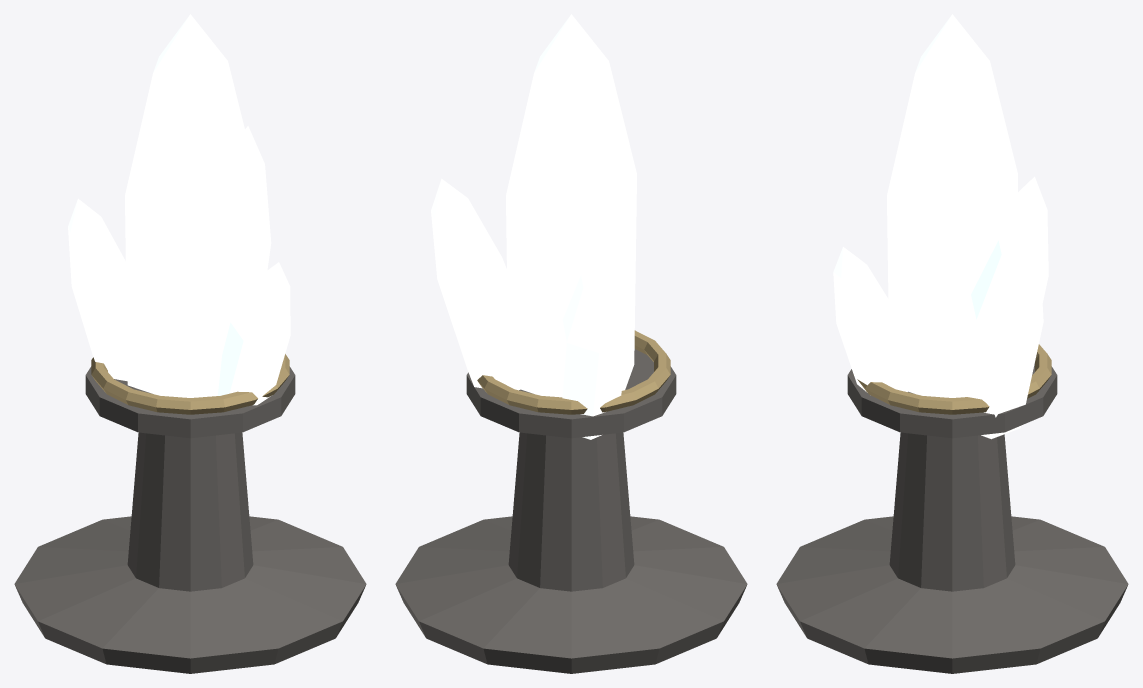
Rendered from light-crystal-v01.glb.
3 views of the same model, side by side, from view 1: azimuth 30°, elevation 25°; view 2: azimuth 150°, elevation 25°; view 3: azimuth 270°, elevation 25° (orthographic).
Visible parts, largest first — view 1: light-crystal; view 2: light-crystal; view 3: light-crystal.
Boxes of the visible parts, <box> form: light-crystal: <box>14,14,366,673</box>; light-crystal: <box>395,14,747,673</box>; light-crystal: <box>776,14,1128,673</box>.
Size of the model in its own units: 0.84 by 1.55 by 0.84.
